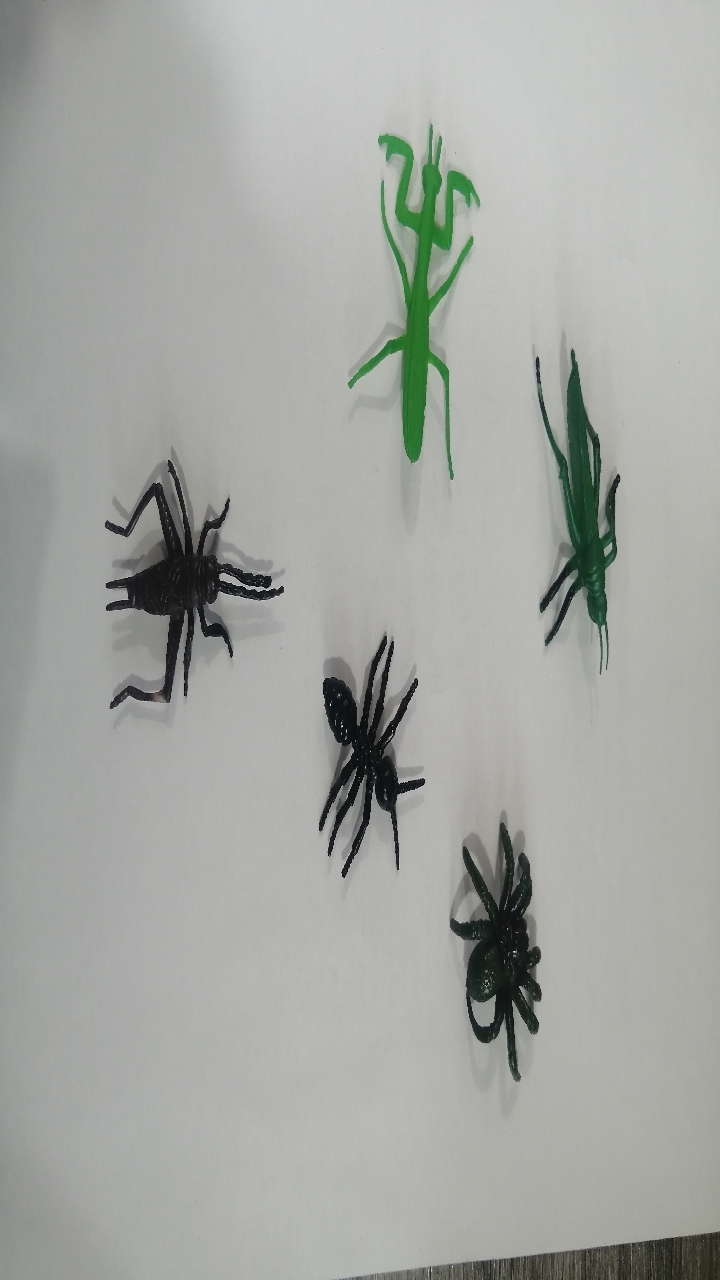intruso: (328, 86, 501, 519), (58, 435, 301, 742), (498, 314, 634, 695), (424, 785, 574, 1108), (280, 614, 448, 897)
